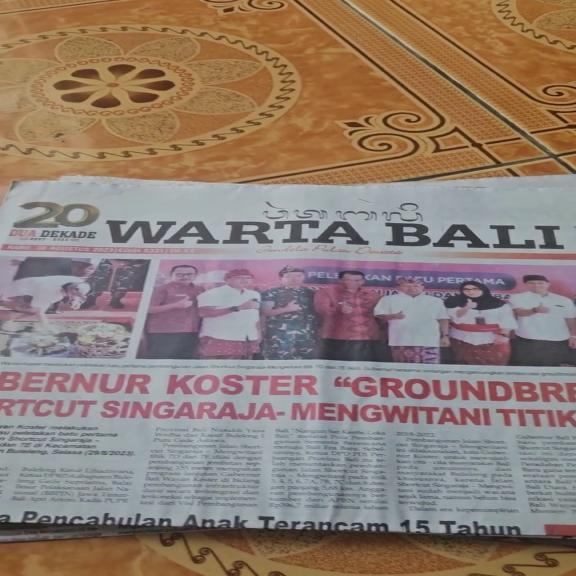Kertas: (0, 177, 566, 542)
